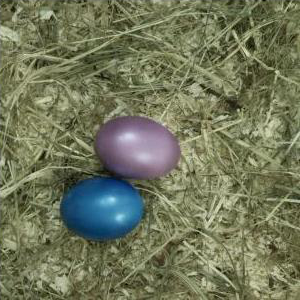egg: (61, 177, 146, 240), (94, 117, 181, 178)
